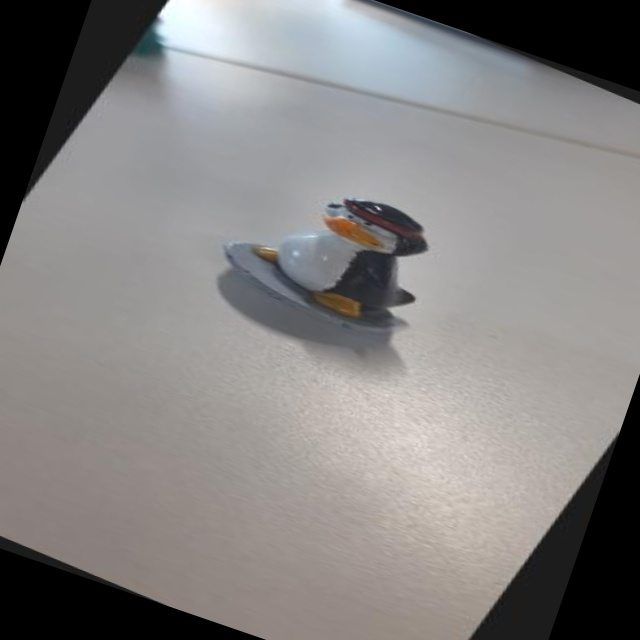Penguin: (194, 139, 494, 381)
